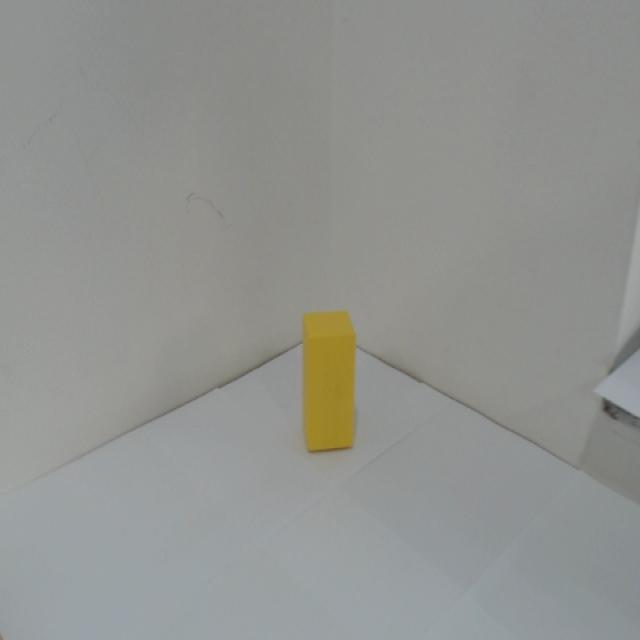cube: (290, 308, 369, 462)
